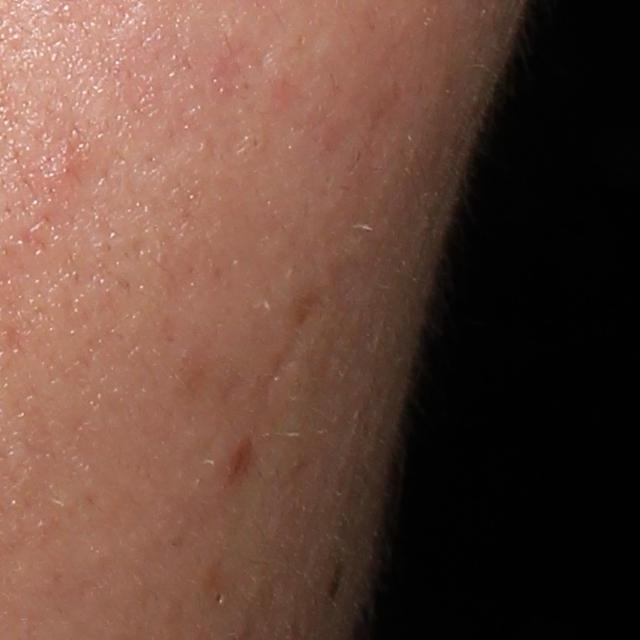nevus: (323, 557, 346, 599)
papule: (225, 435, 256, 484)
